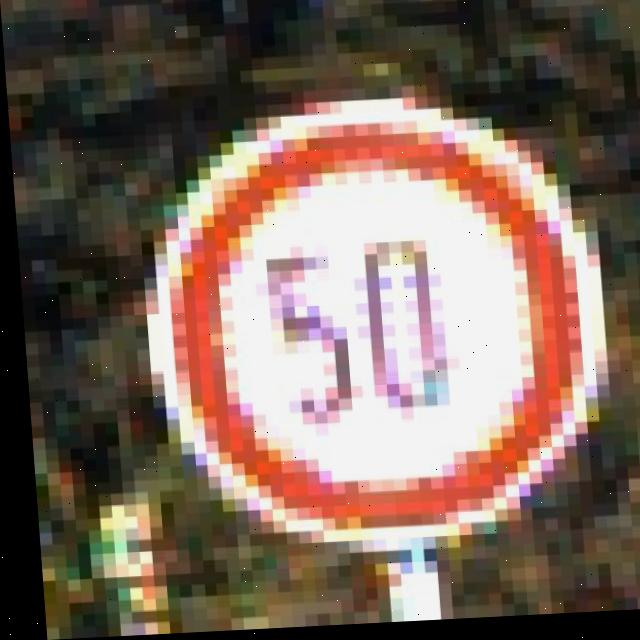Speed limit 50: (148, 95, 601, 549)
